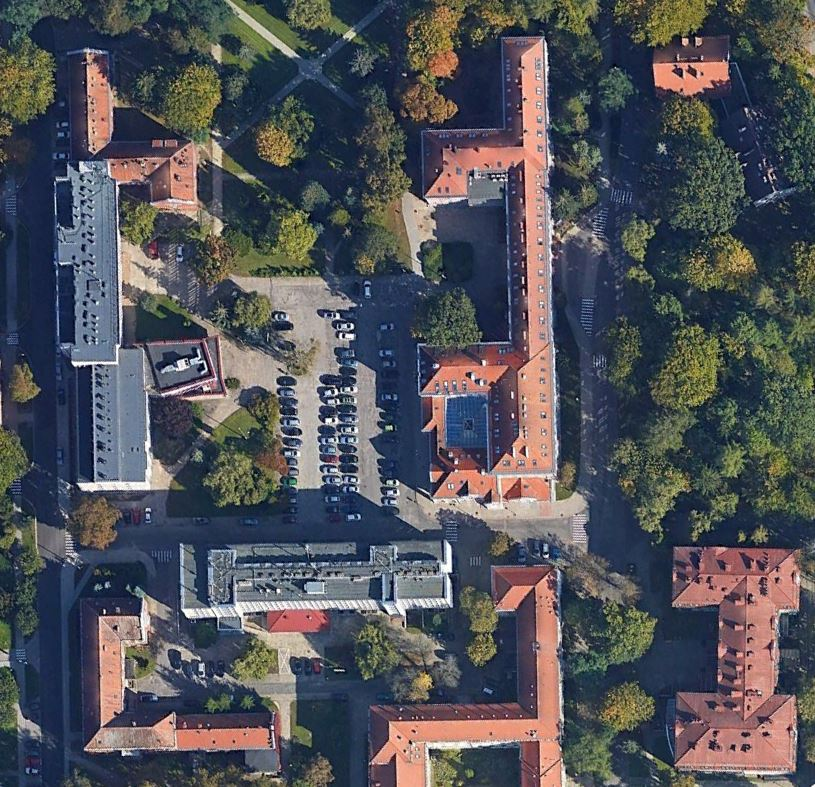block of flats: (45, 45, 231, 500), (406, 31, 559, 514), (362, 558, 570, 787), (73, 589, 285, 775), (660, 531, 804, 777), (170, 536, 456, 641), (649, 26, 743, 106)
